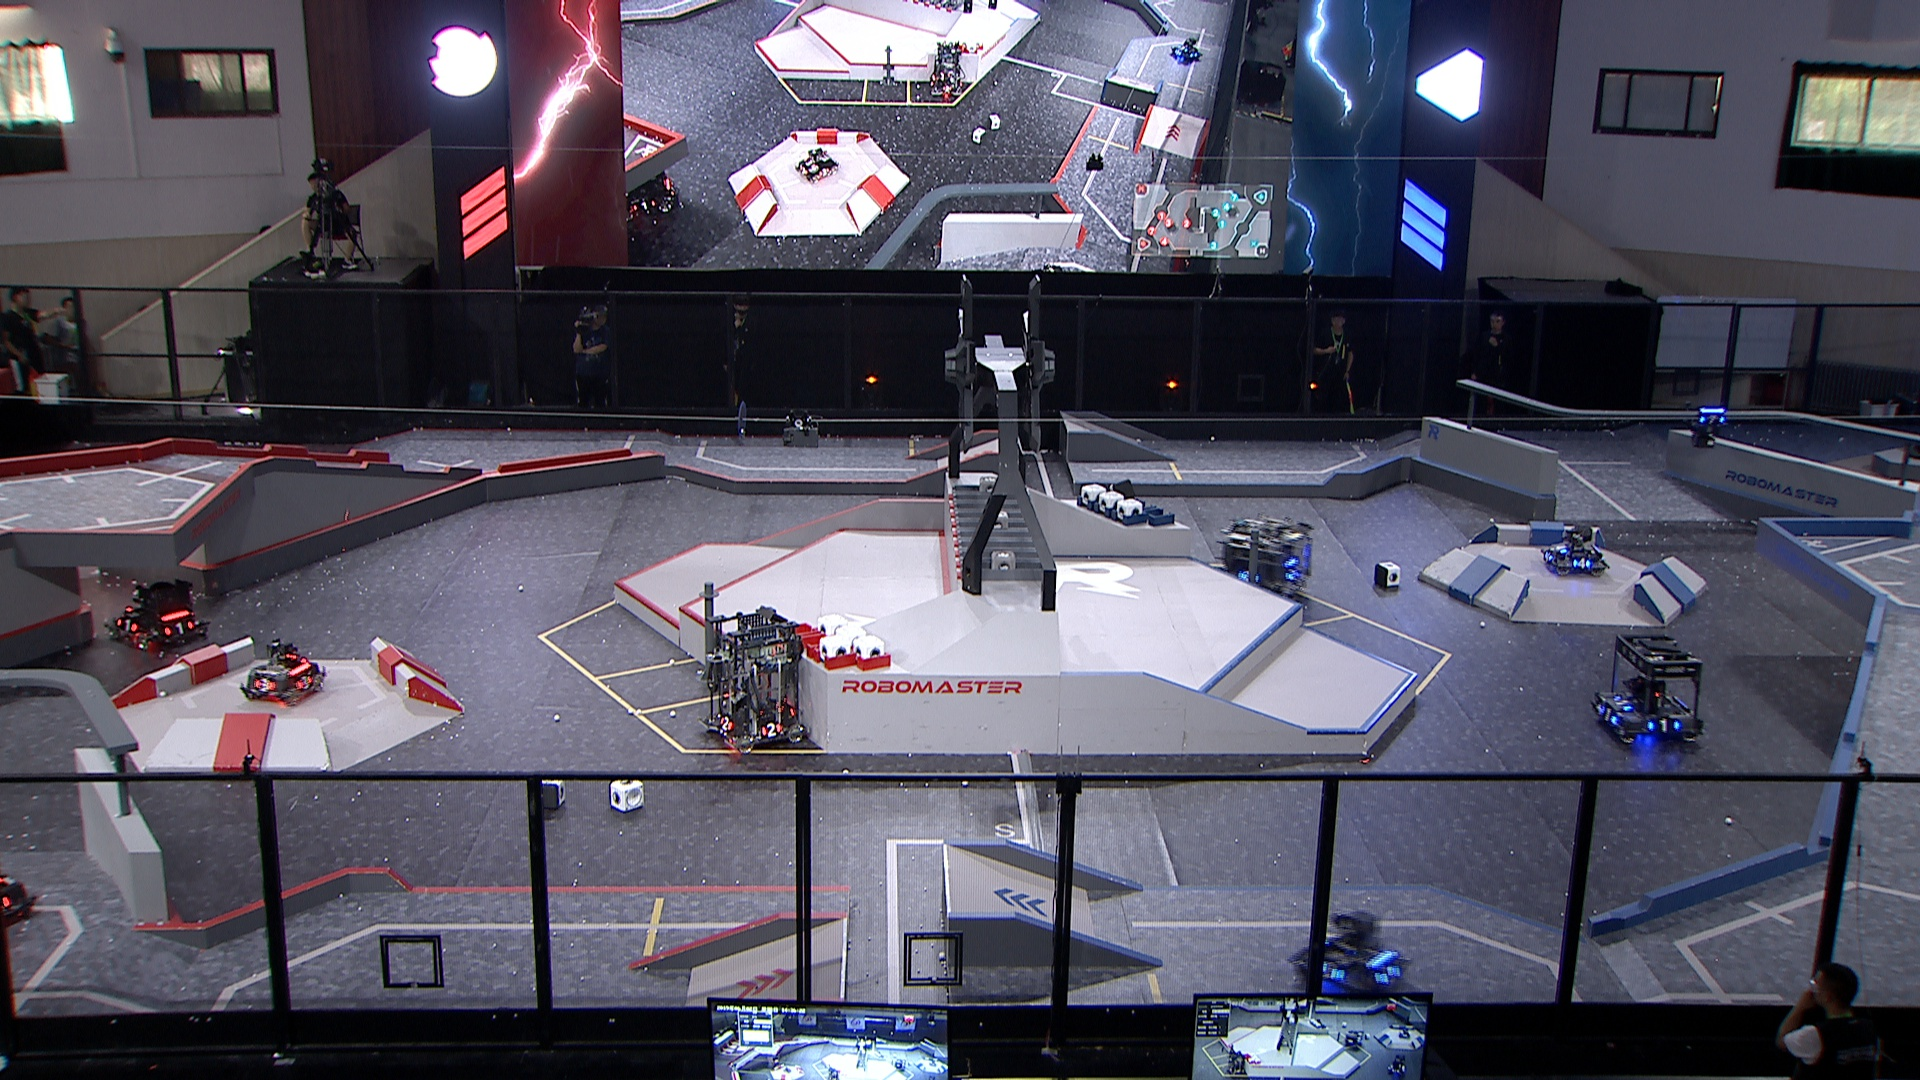armor: (1378, 960, 1400, 986), (1316, 959, 1342, 981), (162, 621, 196, 636), (113, 616, 138, 636), (1648, 719, 1680, 733), (1611, 694, 1631, 711), (760, 723, 785, 736), (717, 713, 735, 732), (1600, 704, 1617, 723), (1698, 413, 1724, 425), (252, 676, 273, 690), (1284, 564, 1300, 582), (1323, 928, 1340, 944), (1238, 568, 1257, 583), (1571, 556, 1593, 568), (295, 674, 315, 687), (1553, 543, 1565, 555), (1543, 550, 1555, 562)
car: (700, 608, 811, 757), (1592, 632, 1712, 749), (1286, 903, 1410, 1002), (1218, 510, 1316, 615), (103, 576, 208, 657), (237, 640, 323, 704), (1538, 522, 1610, 579)
ignore: (928, 44, 964, 95), (645, 175, 683, 214), (796, 148, 836, 182), (622, 189, 654, 223), (1168, 33, 1203, 63), (1222, 1044, 1250, 1076), (1382, 1052, 1408, 1077), (1342, 1029, 1366, 1048), (891, 1058, 909, 1073), (825, 1065, 843, 1080)
watcher: (1679, 396, 1727, 452)
